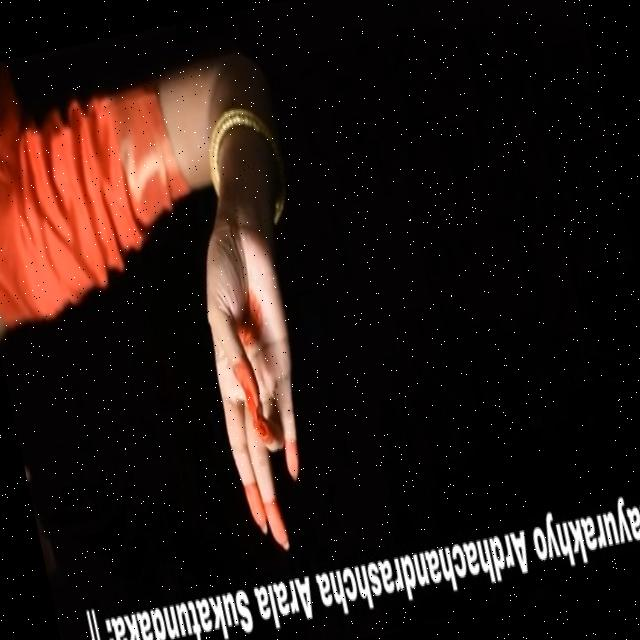Mayura: (163, 200, 350, 574)
bangle: (175, 80, 310, 206)
text: (79, 482, 640, 640)
